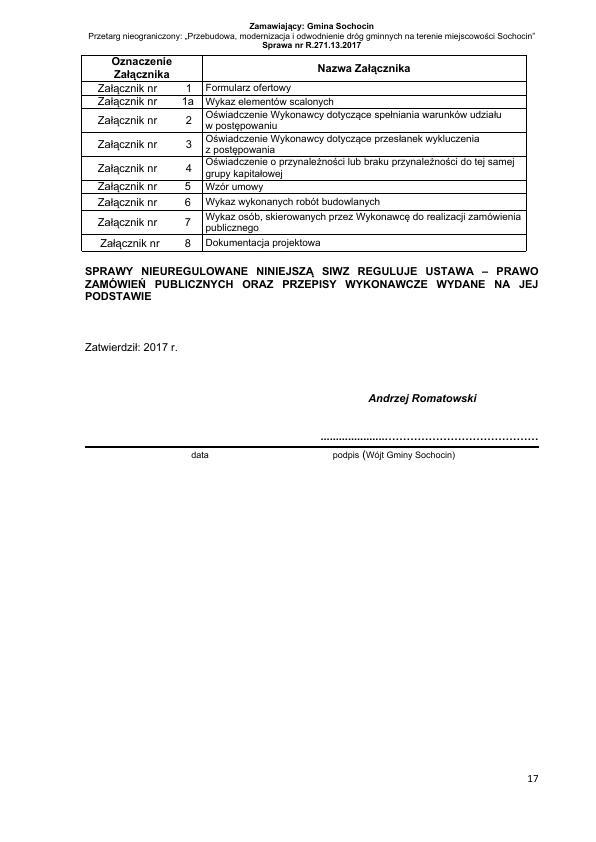input: (319, 418, 540, 444)
table: (78, 53, 531, 255)
text: (82, 263, 546, 307), (82, 18, 537, 51), (365, 389, 480, 411), (81, 340, 181, 358)
